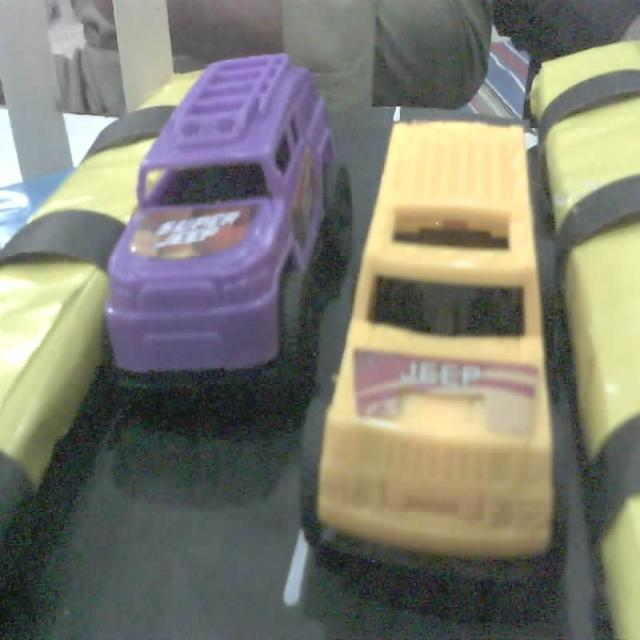TwoCar: (287, 102, 589, 609), (94, 58, 345, 397)
